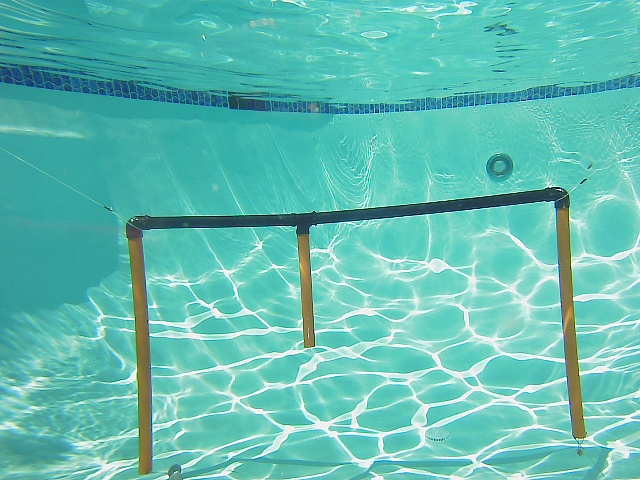Gate: (553, 202, 589, 441), (124, 231, 155, 473), (294, 228, 320, 351)
